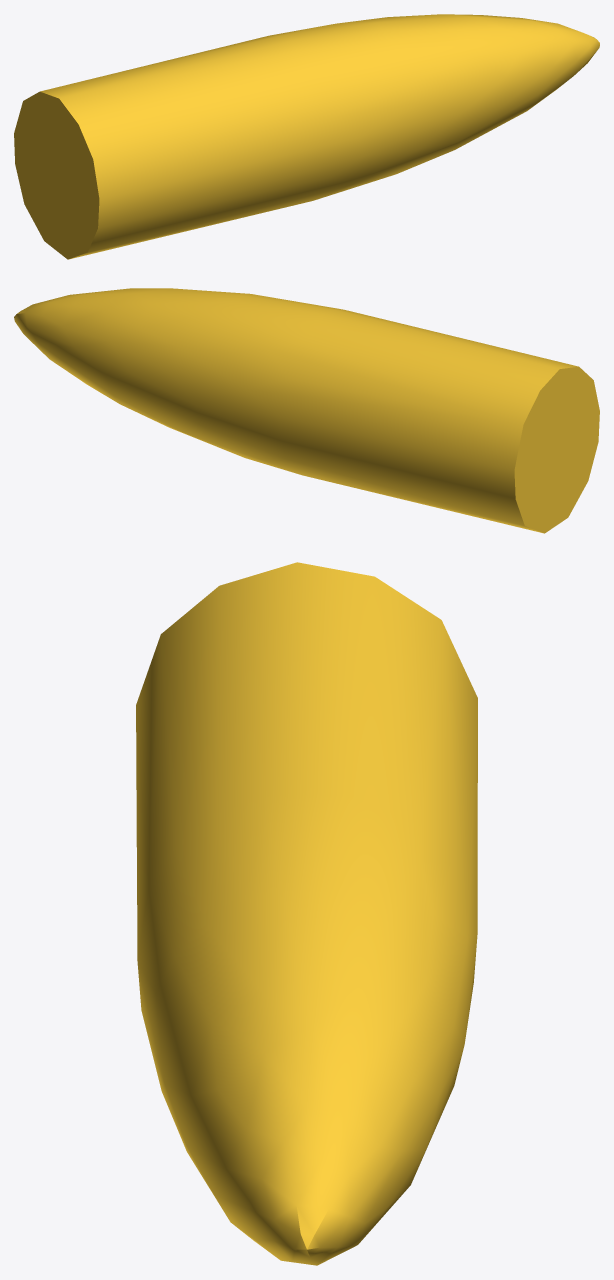
The model's file is bala_ignitium.obj.
The picture shows the model from 3 angles, top to bottom: view 1: azimuth 30°, elevation 25°; view 2: azimuth 150°, elevation 25°; view 3: azimuth 270°, elevation 25°; orthographic projection. The views are drawn at different scales.
Bounding box in the file's own units: 0.126 × 0.0346 × 0.0343.
